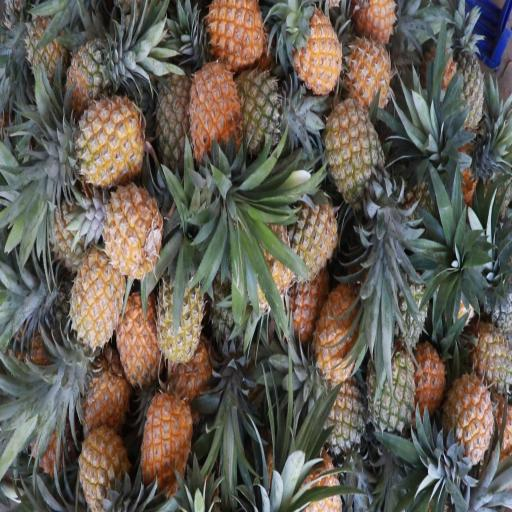------------------------------: (322, 81, 388, 211), (56, 20, 131, 110), (153, 256, 203, 372), (227, 71, 287, 154)
Pineapple - v8 v1: (54, 85, 148, 186), (181, 54, 244, 184), (100, 176, 162, 288), (61, 245, 122, 357), (305, 270, 363, 386), (137, 382, 194, 490), (441, 357, 491, 473), (73, 413, 131, 512), (275, 154, 332, 251), (289, 6, 346, 96), (112, 288, 163, 388), (337, 31, 400, 108), (203, 0, 262, 67)
